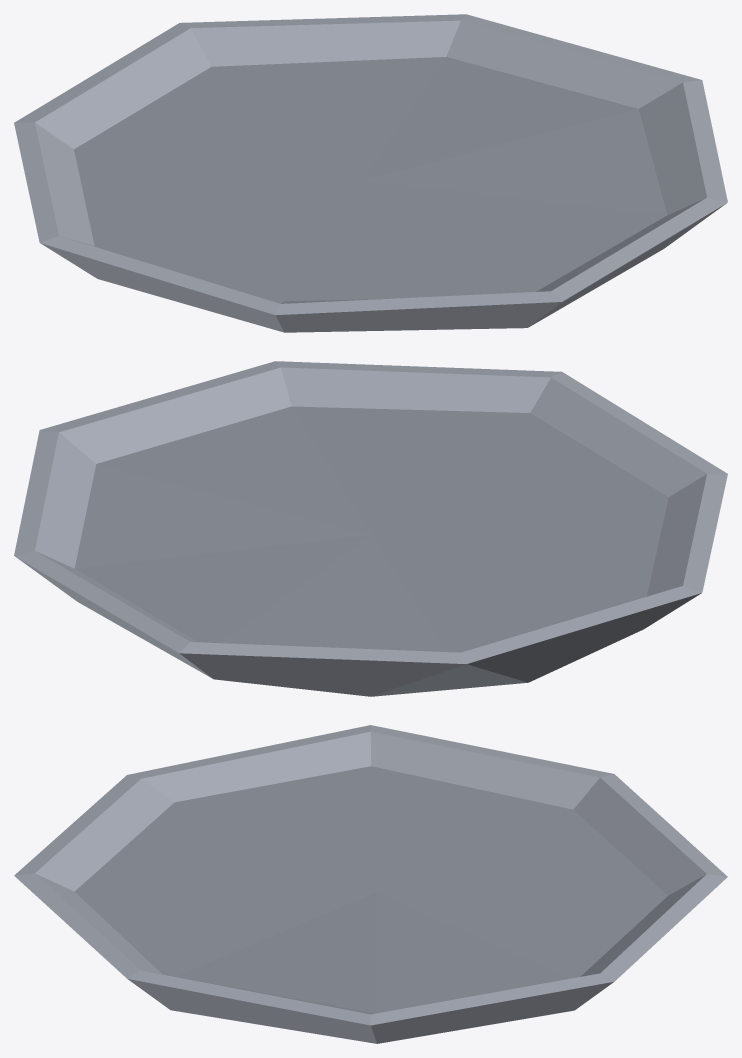
The model's file is SM_Prop_Plate_Large_02.fbx.
3 views of the same model, one above another, from view 1: azimuth 30°, elevation 25°; view 2: azimuth 150°, elevation 25°; view 3: azimuth 270°, elevation 25° (orthographic). The views are drawn at different scales.
Parts seen in each view (by area): view 1: SM_Prop_Plate_Large_02; view 2: SM_Prop_Plate_Large_02; view 3: SM_Prop_Plate_Large_02.
Part boxes in pixels (x1,y1,x2,y2): SM_Prop_Plate_Large_02: [14, 14, 727, 332]; SM_Prop_Plate_Large_02: [14, 361, 727, 696]; SM_Prop_Plate_Large_02: [14, 725, 727, 1043].
Bounding box in the file's own units: 93.08 × 7.92 × 93.14.
